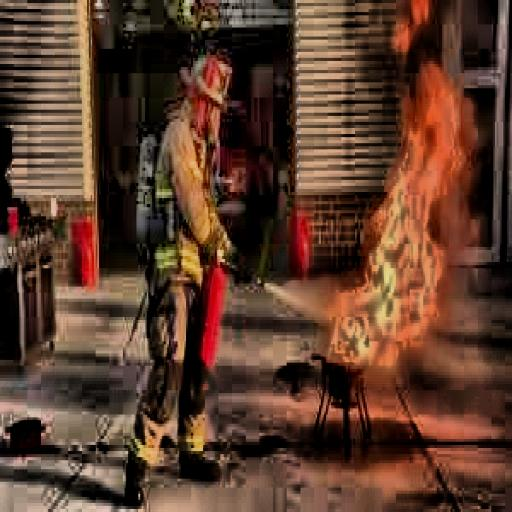fire: (321, 24, 466, 406)
